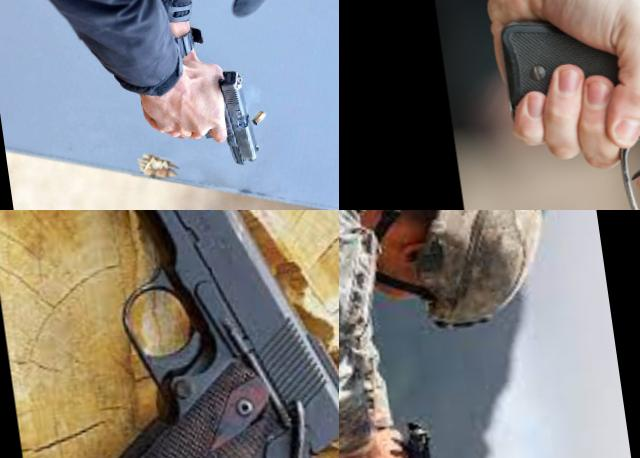handgun: (0, 210, 339, 458), (491, 0, 640, 210), (180, 66, 261, 174), (361, 413, 451, 458)
